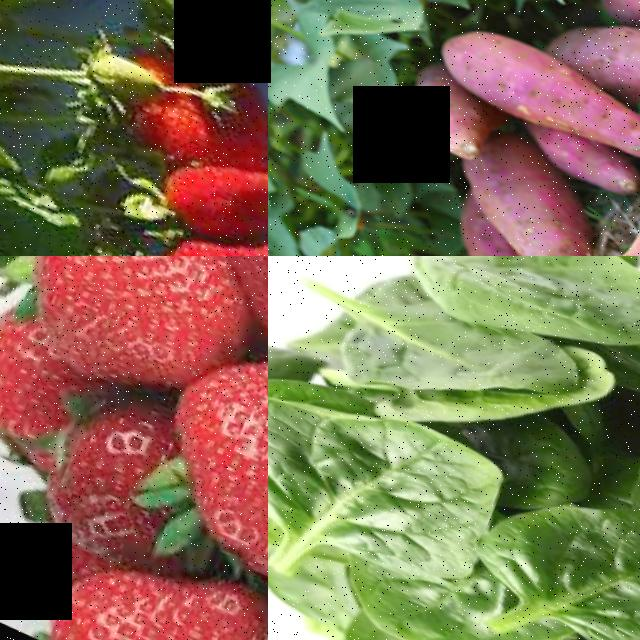spinach: (268, 337, 515, 609), (309, 256, 582, 447), (466, 436, 640, 640), (399, 256, 640, 392), (323, 607, 570, 640)
strawberry: (160, 304, 268, 588), (0, 256, 235, 373), (35, 538, 255, 640), (0, 315, 96, 475), (158, 121, 268, 244), (157, 0, 268, 75), (148, 216, 268, 256)
sweet potato: (425, 5, 640, 182), (444, 134, 623, 256), (539, 0, 640, 126), (523, 113, 640, 196)
